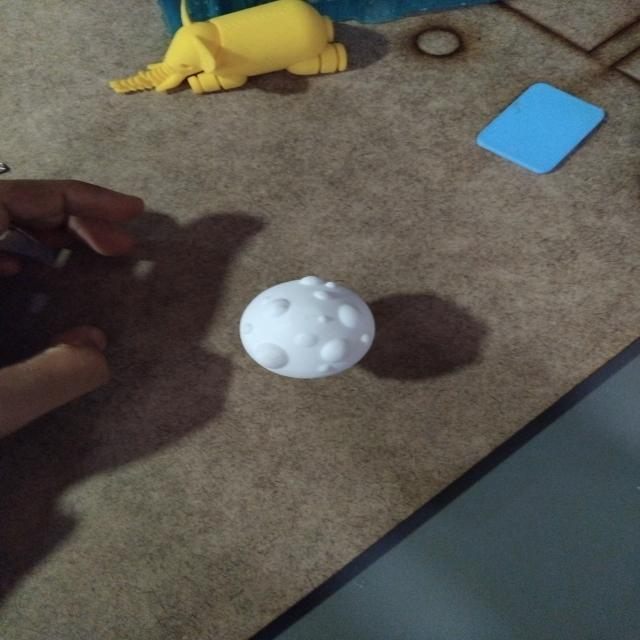Hongo: (228, 271, 387, 390)
